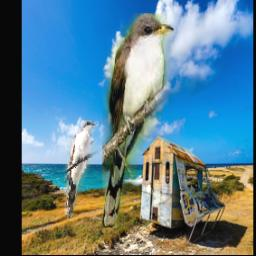Cuckoo: (101, 13, 173, 228), (64, 121, 99, 220)
